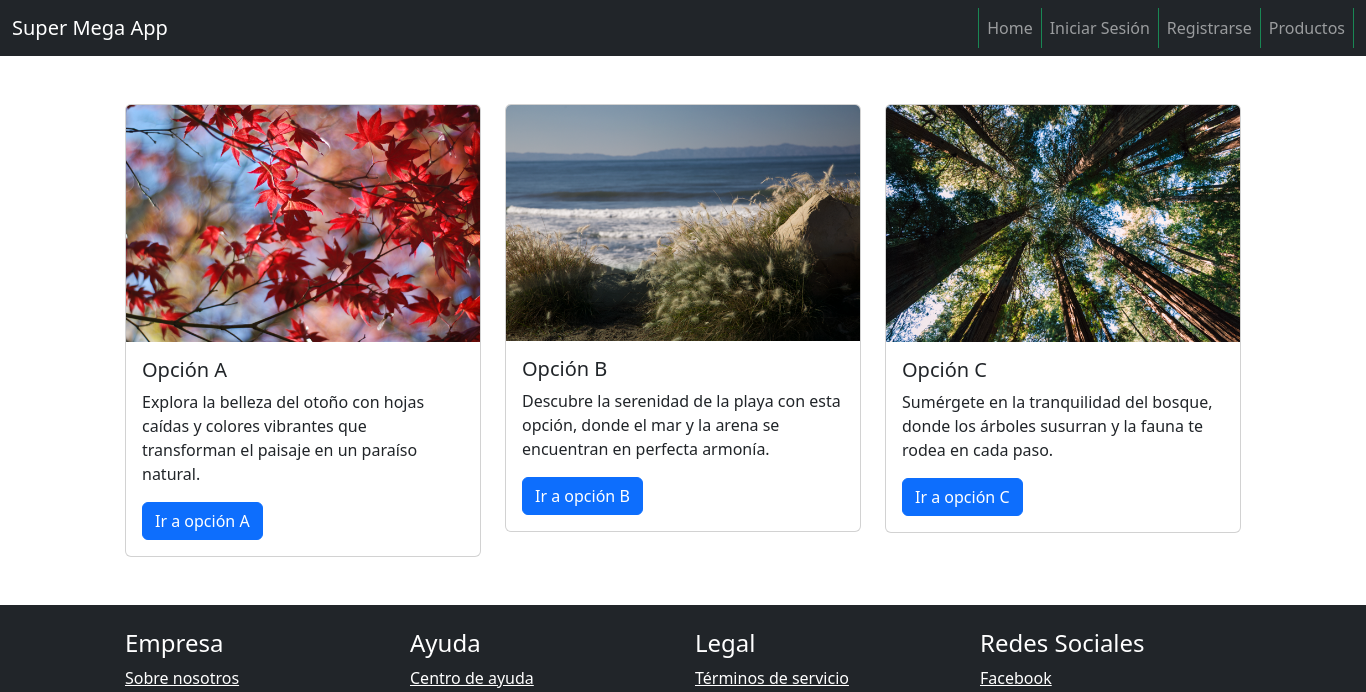
formulario de registro › debe mostrar error si el nombre es menor a 3 caracteres
Click the link to "/register": (1210, 28) [1159, 8, 1261, 48]
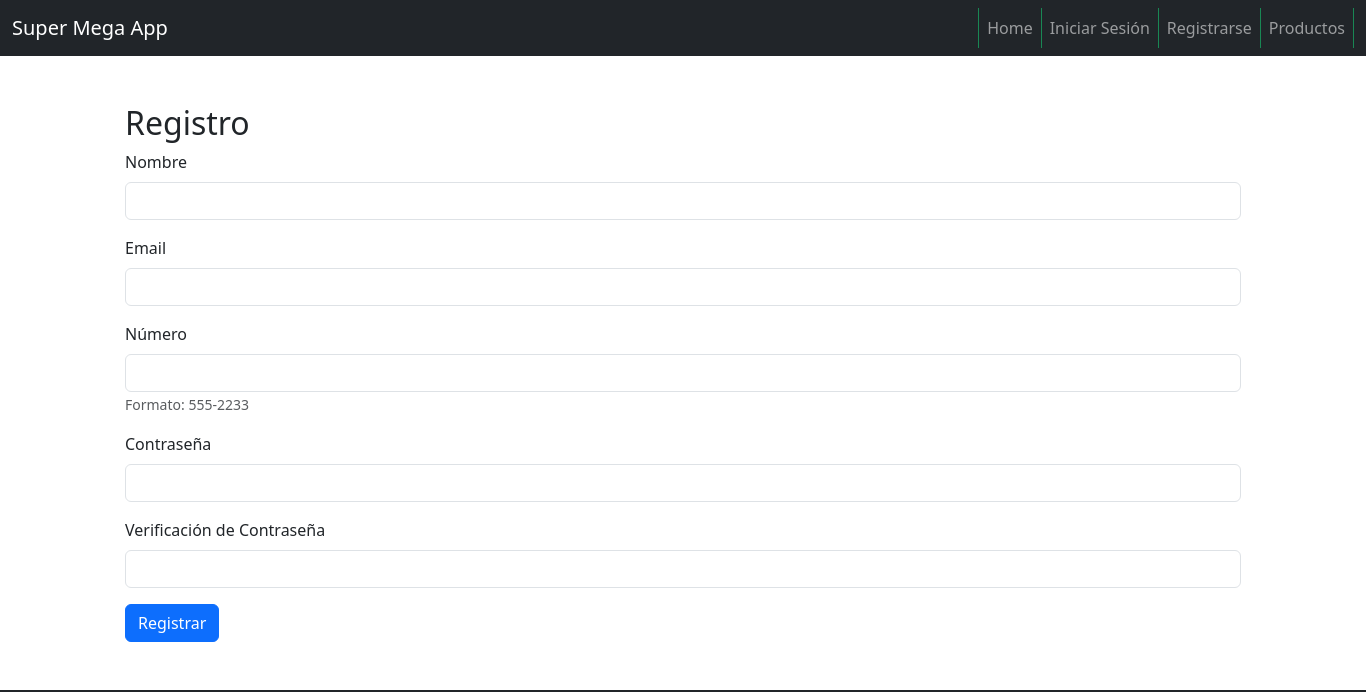
In the field with id "name": (683, 201) [125, 182, 1241, 220], type "Al"
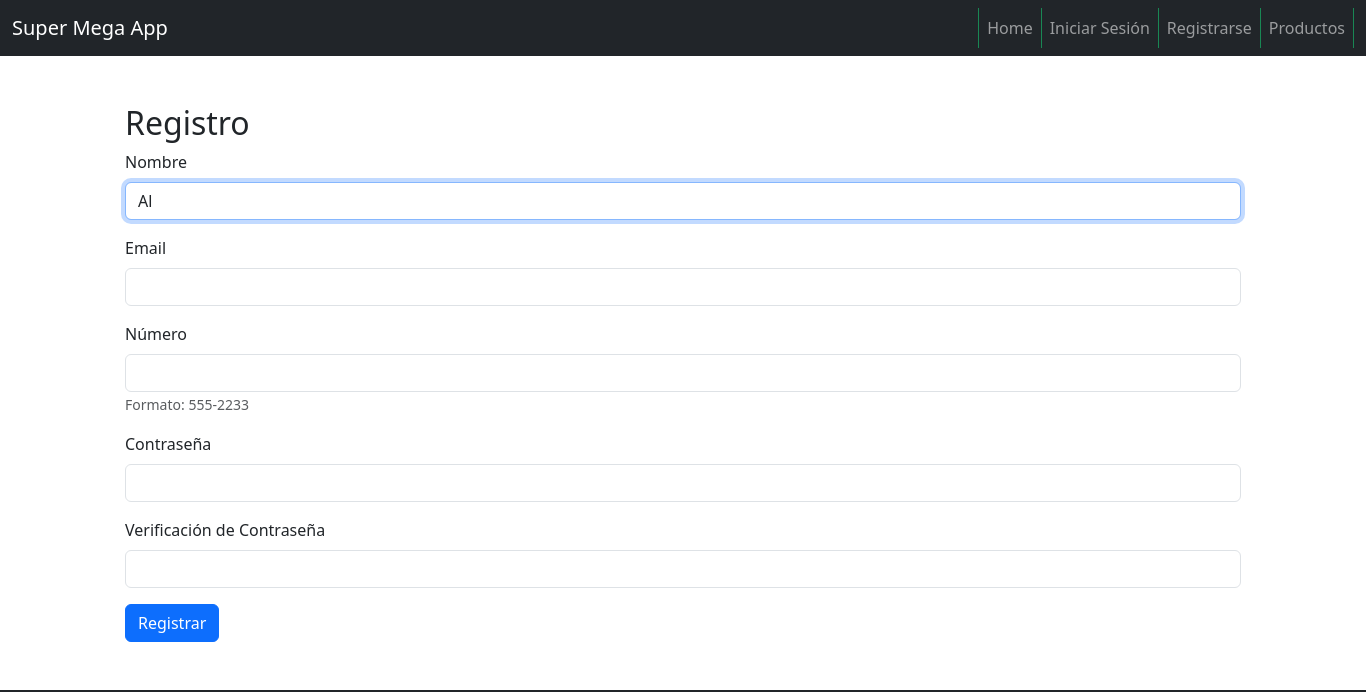
Submit the form, box [125, 150, 1241, 642]
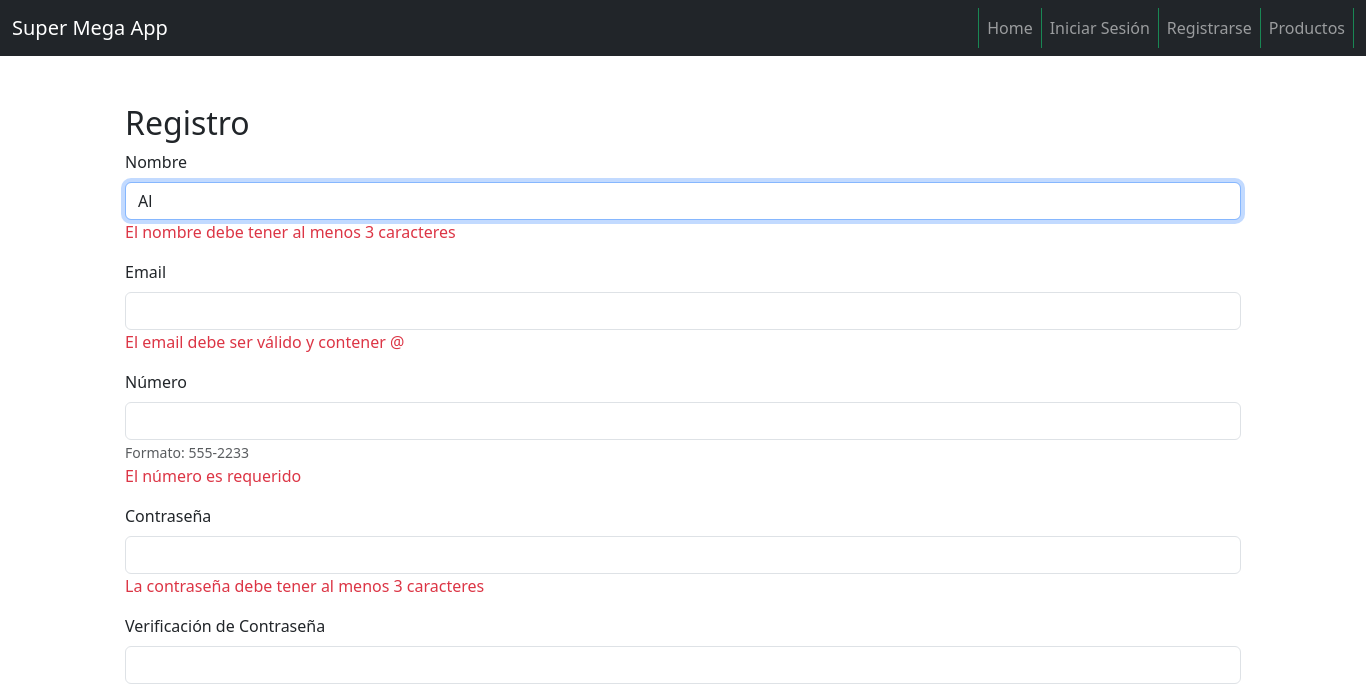
Expected: the text "El nombre debe tener al menos 3 caracteres" is shown, [125, 221, 456, 243]
